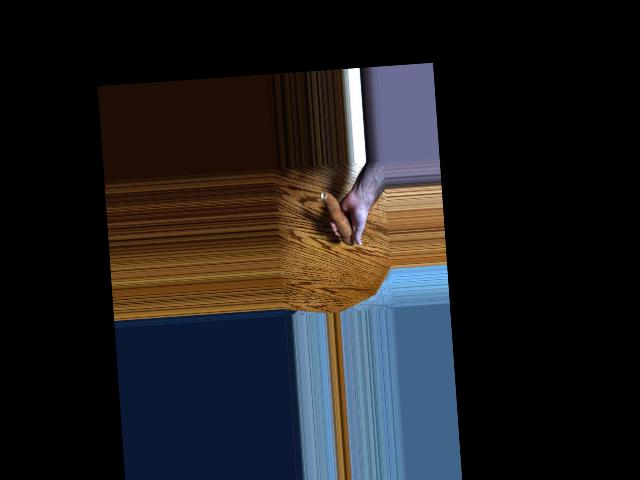sweet_potato: (321, 189, 353, 250)
